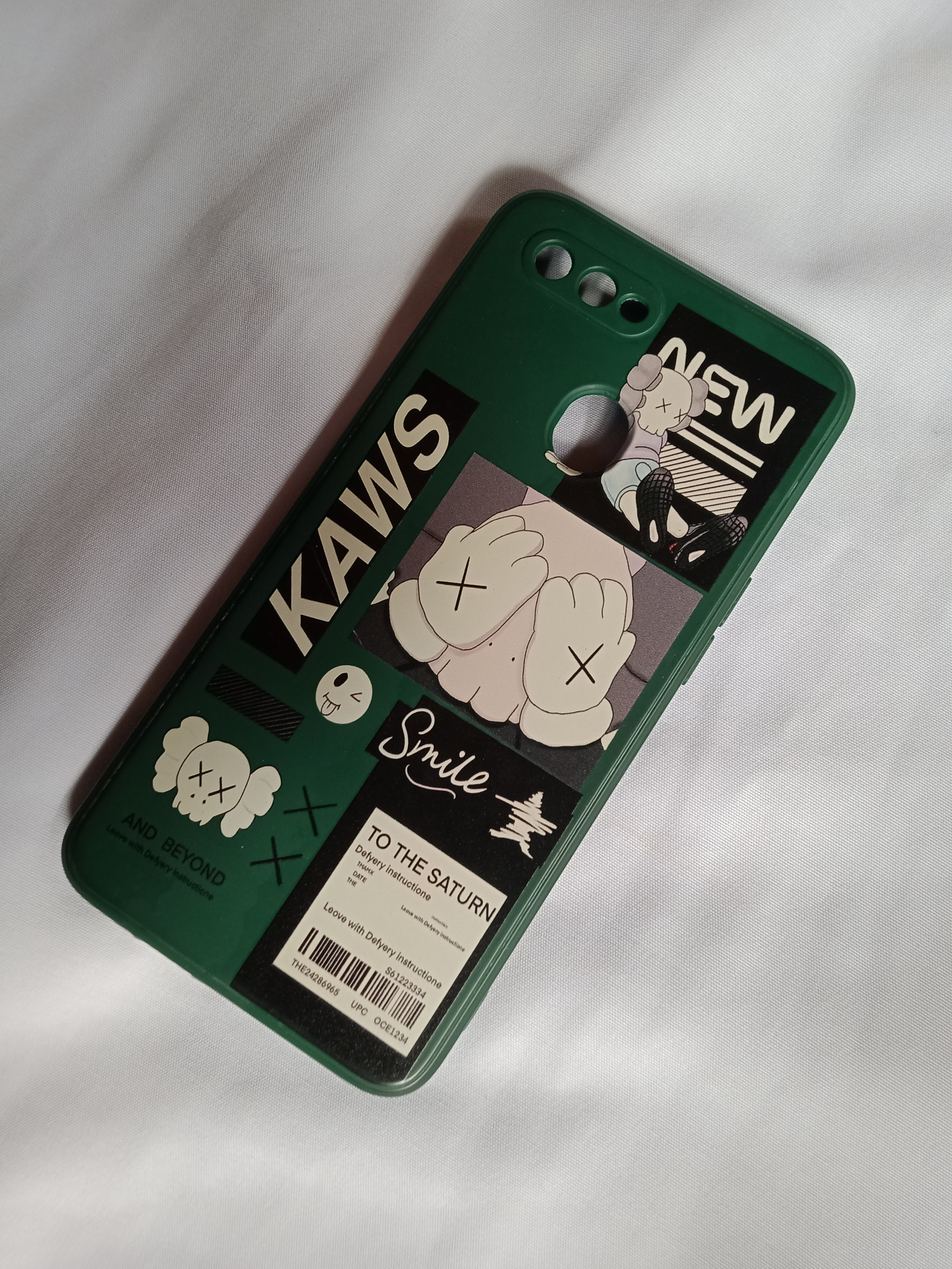plastic: (31, 85, 882, 1242)
